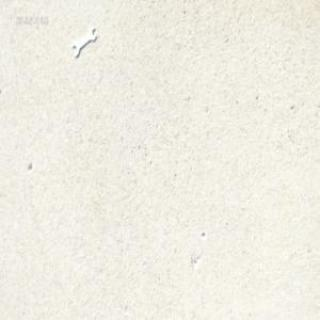Wrenchtrack_idkeyframe: (71, 24, 96, 57)
